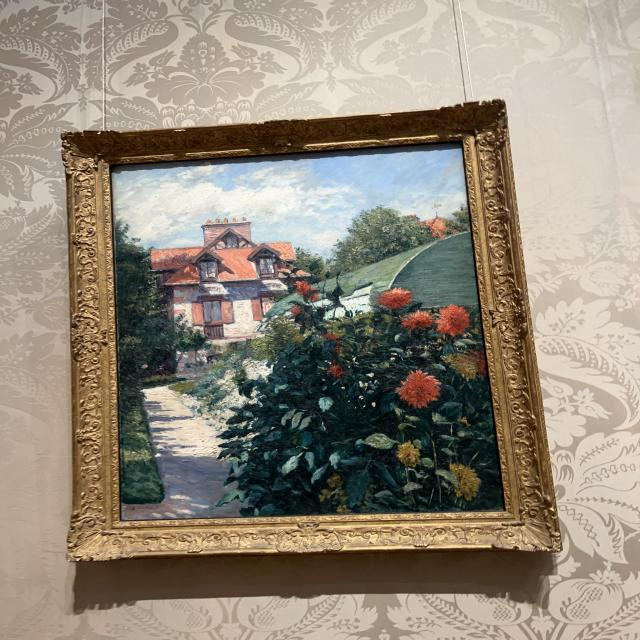summer: (112, 151, 497, 514)
